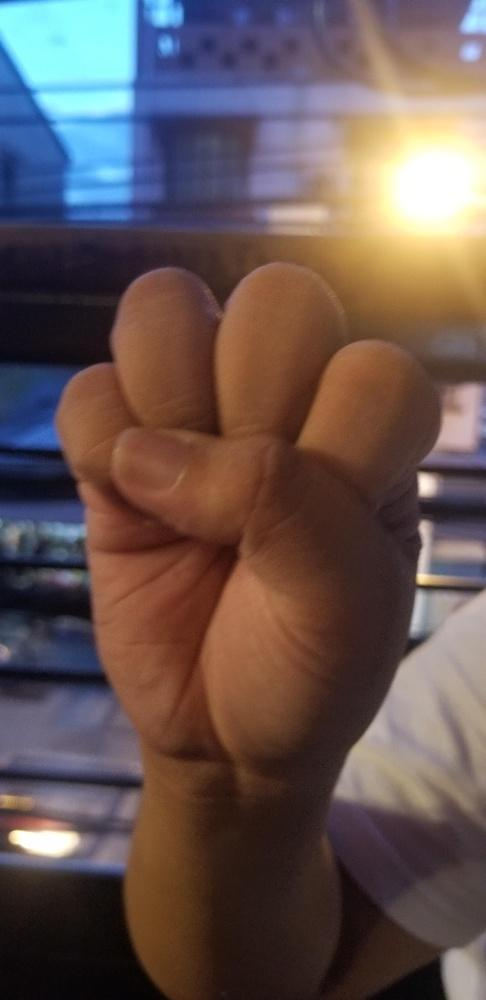s: (54, 258, 441, 756)
